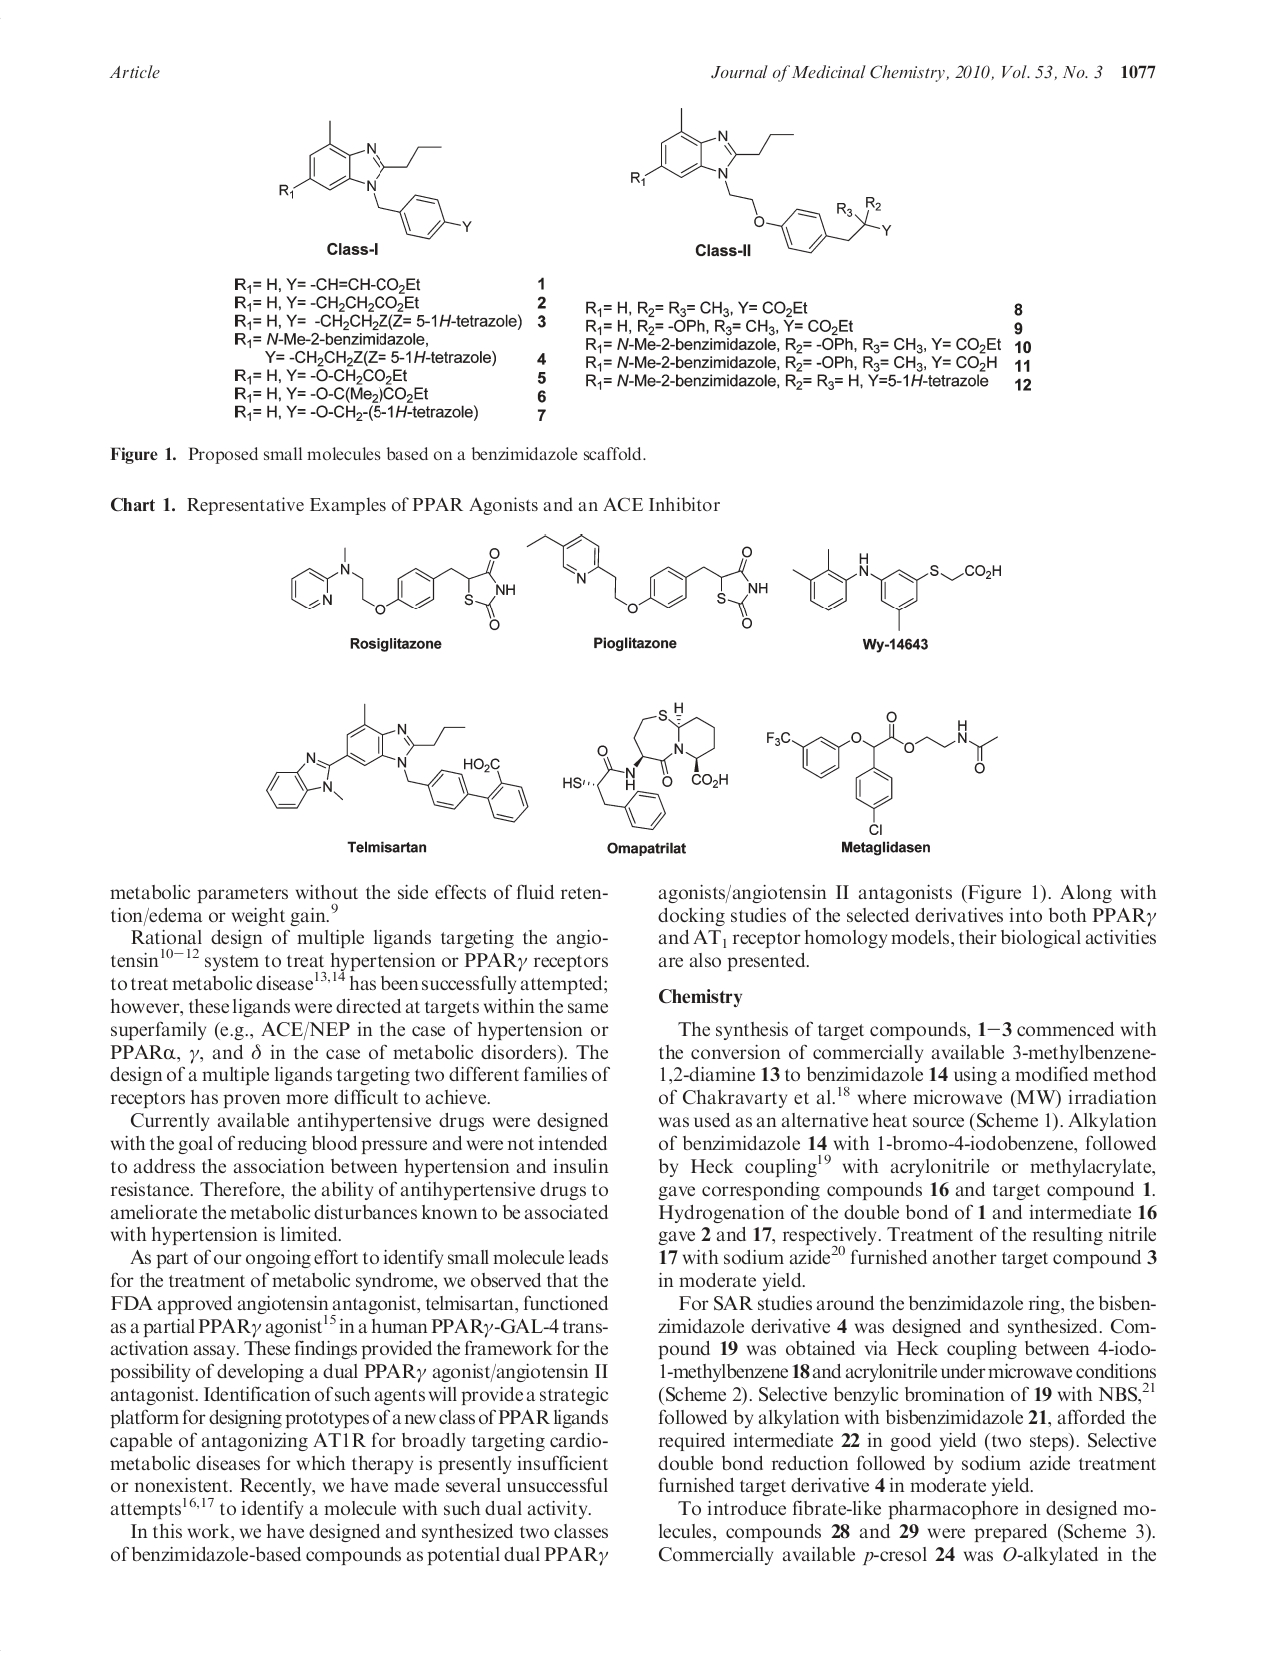exist_molecular: (629, 105, 891, 255), (265, 702, 532, 825), (765, 711, 1000, 836), (277, 117, 473, 242), (527, 533, 770, 630), (561, 700, 729, 831), (289, 547, 519, 633), (793, 547, 1003, 630)
